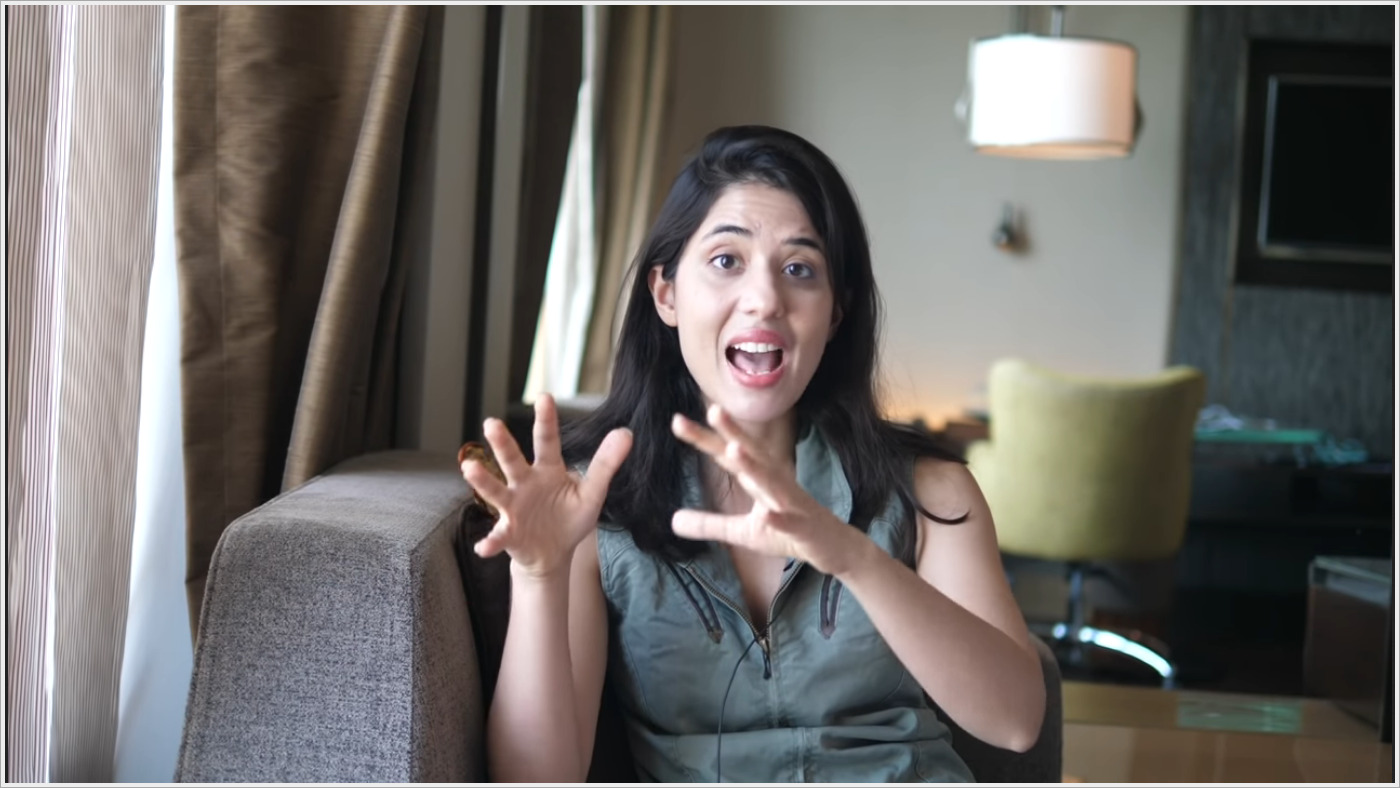hand: (670, 388, 869, 579), (456, 389, 637, 571)
